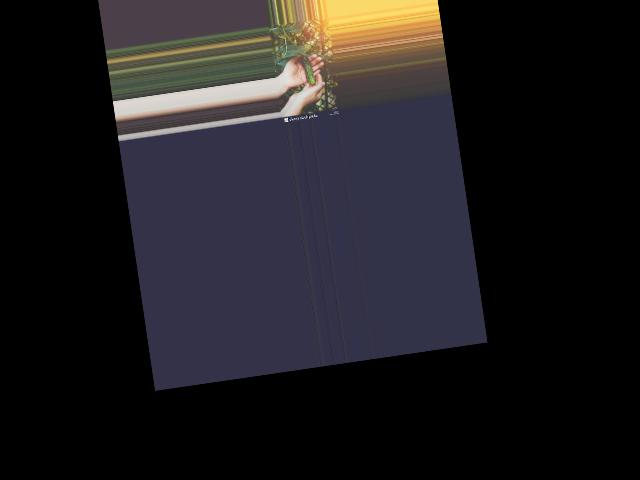cucumber: (300, 54, 316, 86)
